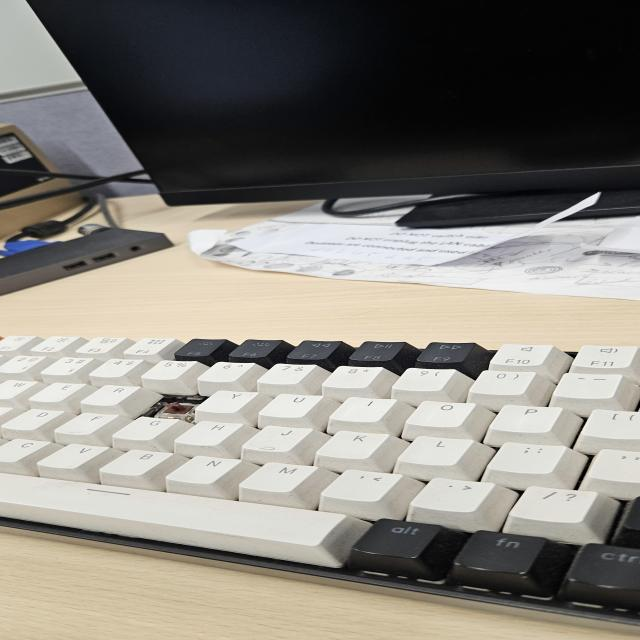C: (156, 394, 194, 418)
